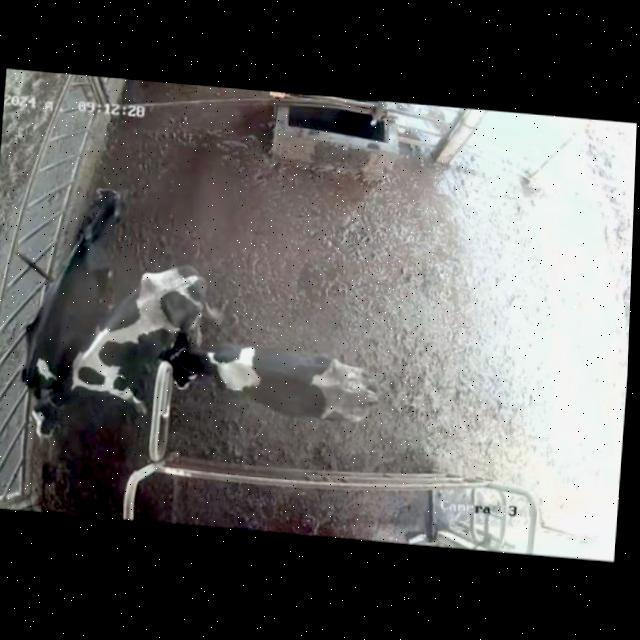stand: (12, 178, 127, 453), (164, 329, 388, 439), (70, 251, 212, 424)
